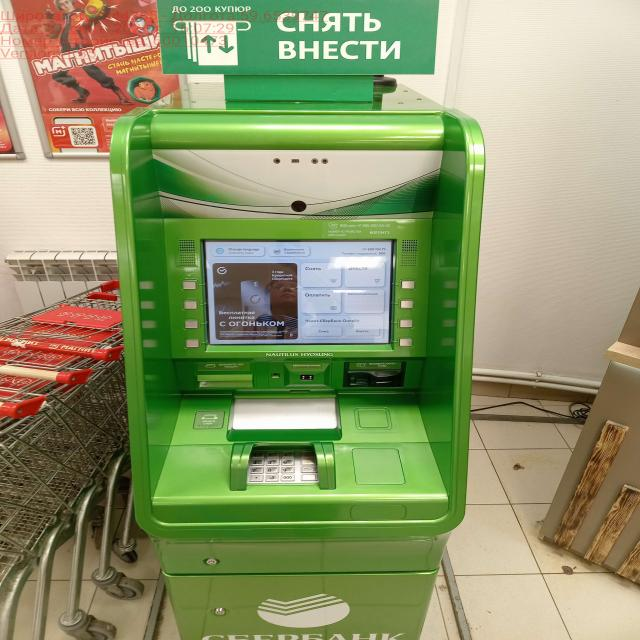bank: (117, 8, 484, 640)
